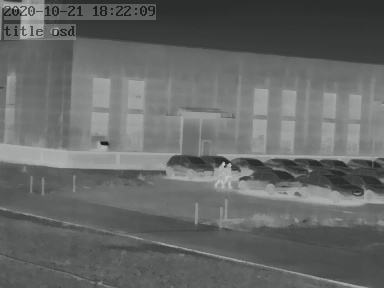person: (214, 161, 226, 187), (224, 163, 233, 189)
vehicle: (299, 174, 364, 202), (238, 170, 299, 194), (164, 153, 214, 178), (199, 153, 244, 177), (353, 173, 384, 204), (233, 155, 269, 172), (262, 155, 299, 171), (346, 157, 377, 170), (317, 156, 346, 169), (296, 156, 324, 169)
